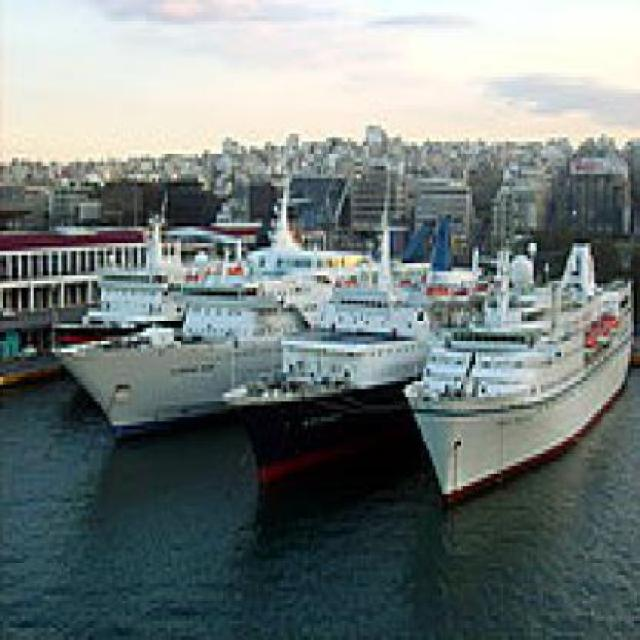cruise: (62, 187, 342, 443), (406, 236, 638, 520)
